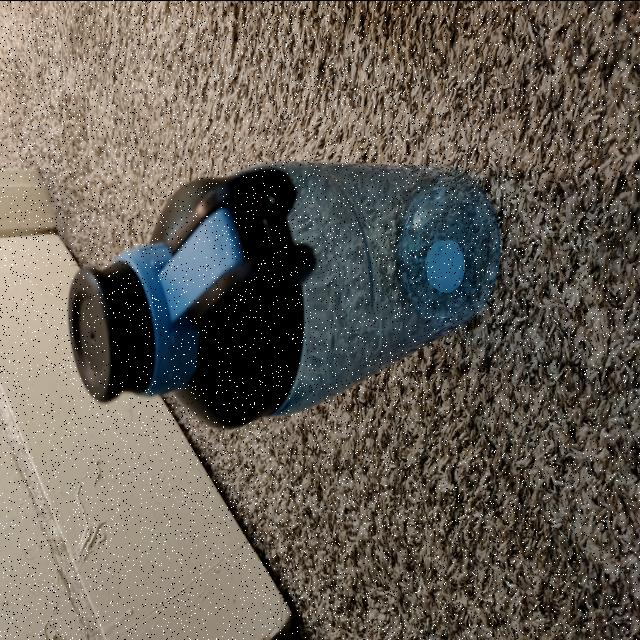bottle: (86, 186, 492, 402)
